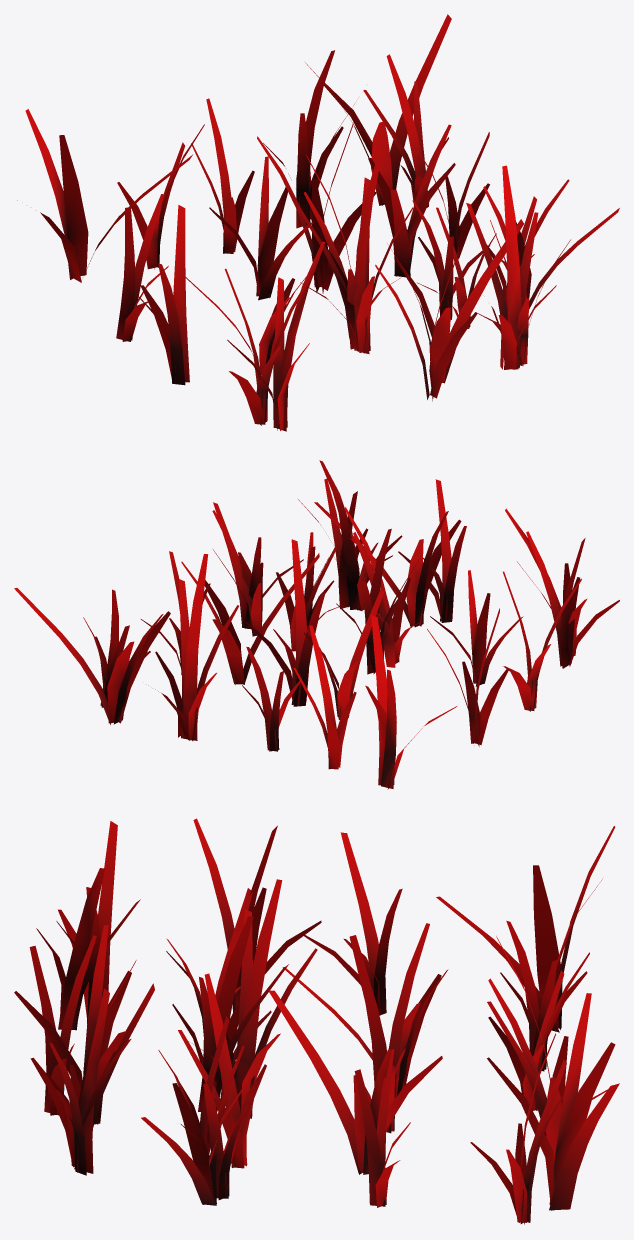
File: SM_SugarCane_1.fbx
3 views of the same model, one above another, from view 1: azimuth 30°, elevation 25°; view 2: azimuth 150°, elevation 25°; view 3: azimuth 270°, elevation 25° (orthographic). The views are drawn at different scales.
Parts seen in each view (by area): view 1: SM_SugarCane_1; view 2: SM_SugarCane_1; view 3: SM_SugarCane_1.
Boxes of the visible parts, left/top/right/bottom form: SM_SugarCane_1: left=17, top=14, right=619, bottom=431; SM_SugarCane_1: left=14, top=460, right=619, bottom=789; SM_SugarCane_1: left=14, top=818, right=619, bottom=1224.
Size of the model in its own units: 1.29 by 0.5075 by 1.21.
